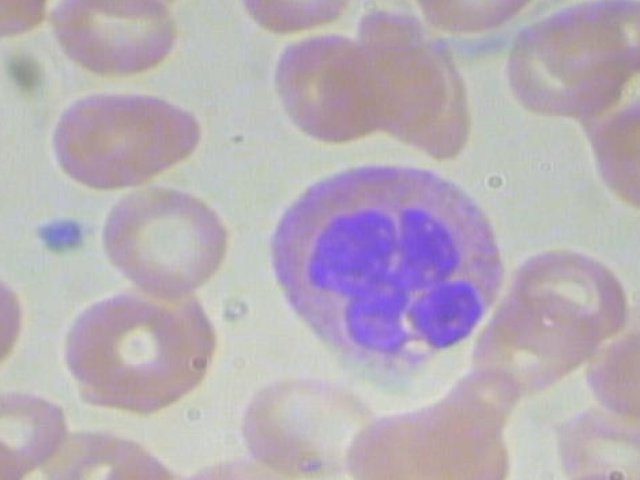Platelets: (20, 203, 99, 257)
RBC: (48, 284, 210, 409), (231, 363, 394, 480), (88, 180, 236, 298), (52, 86, 198, 196), (45, 0, 195, 77), (581, 95, 640, 219), (579, 311, 640, 421)
WBC: (253, 158, 515, 389)
